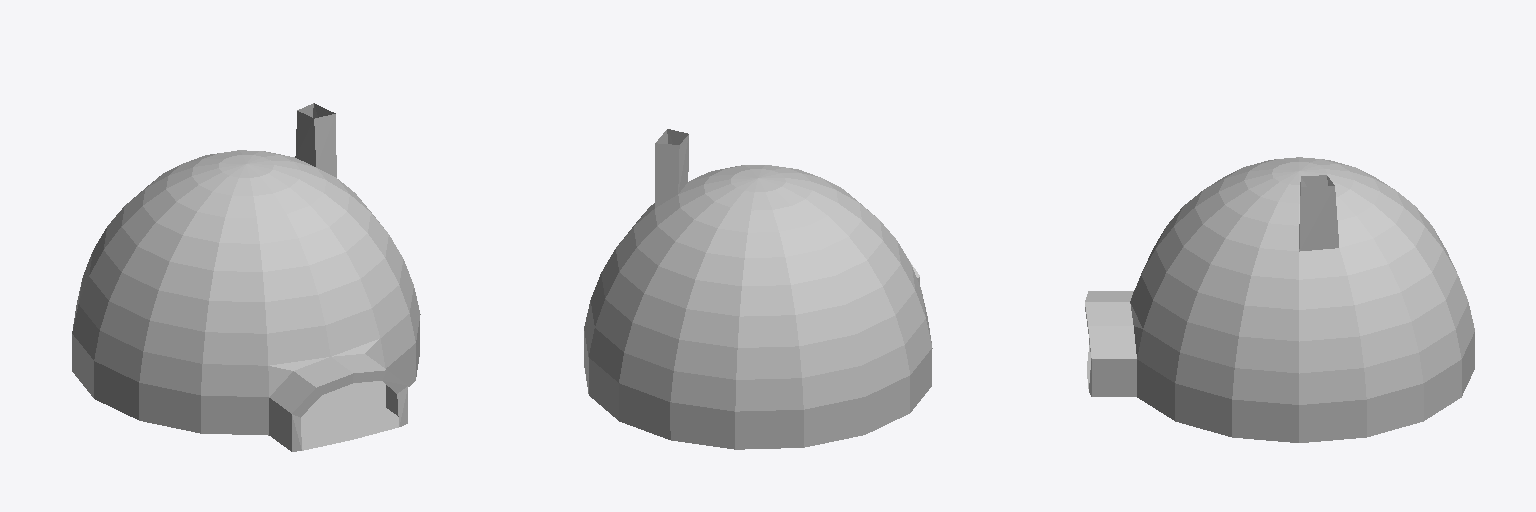
Rendered from igloo.obj.
3 views of the same model, side by side, from view 1: azimuth 30°, elevation 25°; view 2: azimuth 150°, elevation 25°; view 3: azimuth 270°, elevation 25° (orthographic).
Parts seen in each view (by area): view 1: Sphere; view 2: Sphere; view 3: Sphere.
Part boxes in pixels (left/top/right/bottom): Sphere: left=72, top=103, right=420, bottom=451; Sphere: left=584, top=129, right=932, bottom=449; Sphere: left=1085, top=157, right=1474, bottom=442.
Size of the model in its own units: 2 by 1.42 by 2.22.